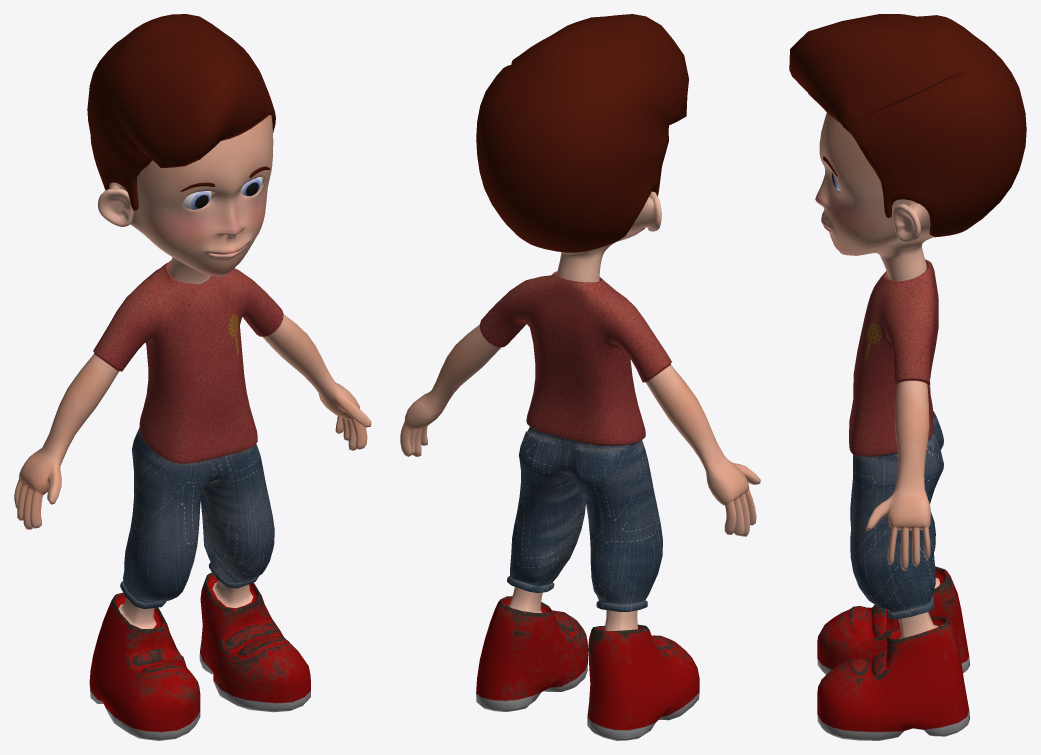
The picture shows the model from 3 angles, left to right: view 1: azimuth 30°, elevation 25°; view 2: azimuth 150°, elevation 25°; view 3: azimuth 270°, elevation 25°; orthographic projection.
Visible parts, largest first — view 1: character01; view 2: character01; view 3: character01.
Boxes of the visible parts, x1,y1,x2,y2 form: character01: (14, 14, 371, 740); character01: (400, 14, 760, 740); character01: (789, 14, 1026, 740).
Bounding box in the file's own units: 0.9033 × 1.71 × 0.5446.
Materials: 1 (1 with a texture image).
